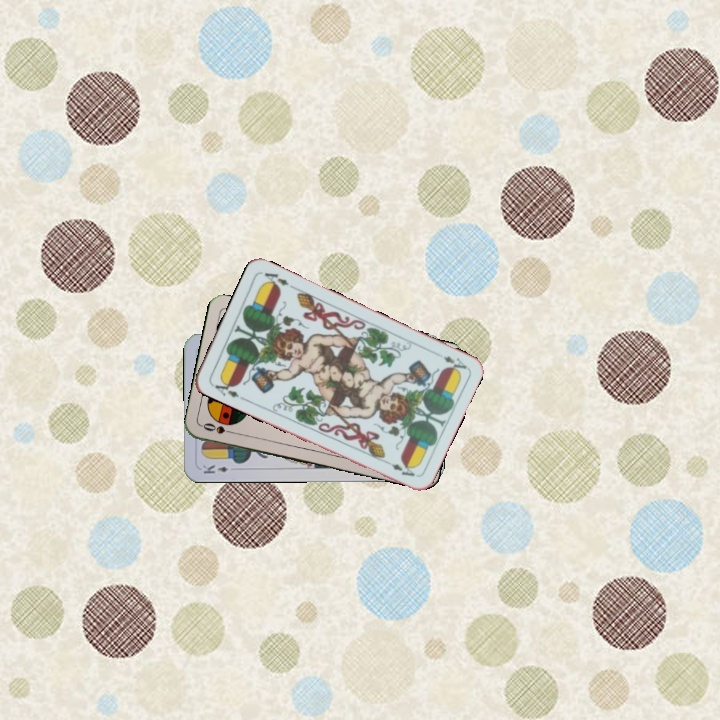EA: (208, 375, 246, 403), (439, 352, 469, 375)
EK: (199, 461, 231, 476)
SO: (198, 419, 239, 437)
